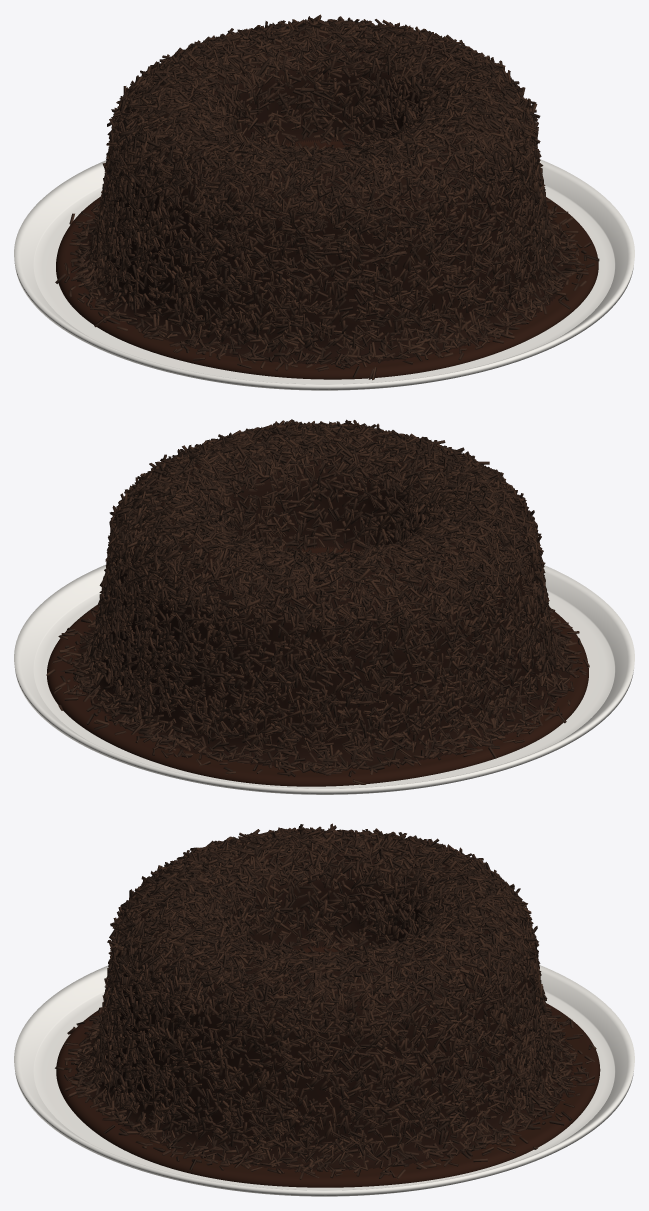
The model's file is cake.glb.
3 renders of one model, top to bottom at view 1: azimuth 30°, elevation 25°; view 2: azimuth 150°, elevation 25°; view 3: azimuth 270°, elevation 25°, orthographic.
Visible parts, largest first — view 1: SprinkleMid_0, SprinkleDark_0, SprinkleLight_0, GanacheCovered, Plate, Ganache; view 2: SprinkleMid_0, SprinkleDark_0, SprinkleLight_0, GanacheCovered, Plate, Ganache; view 3: SprinkleMid_0, SprinkleDark_0, SprinkleLight_0, GanacheCovered, Plate, Ganache.
Boxes of the visible parts, x1,y1,x2,y2 form: SprinkleMid_0: (55, 16, 591, 379); SprinkleDark_0: (64, 15, 599, 378); SprinkleLight_0: (67, 14, 586, 380); GanacheCovered: (76, 29, 573, 364); Plate: (14, 159, 634, 390); Ganache: (56, 140, 598, 379); SprinkleMid_0: (52, 420, 589, 775); SprinkleDark_0: (60, 419, 582, 777); SprinkleLight_0: (46, 419, 579, 784); GanacheCovered: (75, 433, 571, 769); Plate: (14, 564, 634, 794); Ganache: (47, 547, 588, 786); SprinkleMid_0: (55, 826, 594, 1179); SprinkleDark_0: (64, 824, 594, 1178); SprinkleLight_0: (64, 823, 596, 1179); GanacheCovered: (76, 836, 573, 1170); Plate: (14, 965, 634, 1196); Ganache: (56, 946, 600, 1187).
Bounding box in the file's own units: 0.3044 × 0.112 × 0.3044.
